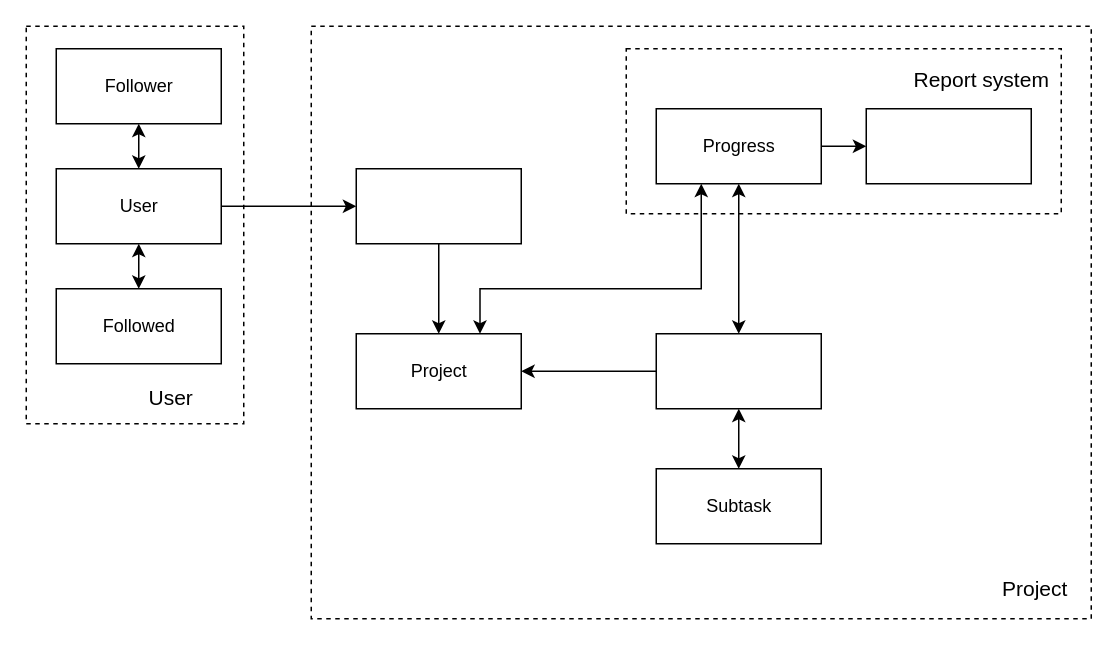
This 1118x645 diagram has some shape labels left out. The shapes that lost their labels are listed below. From the top down, each one's box as (x1, y1, x2, y2) in pixels, then its label:
(865, 107, 1031, 184): Report
(355, 167, 521, 244): Role
(655, 332, 821, 409): Task
